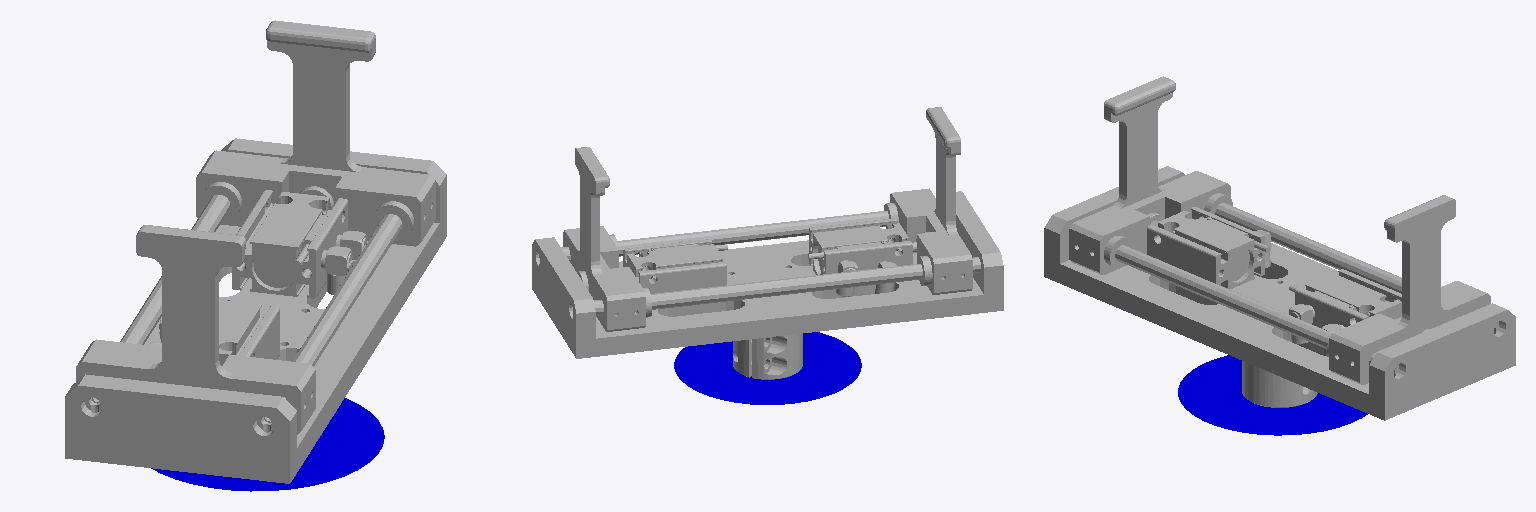
The robot description file, URDF, robot "end_effector_2.SLDASM":
<?xml version="1.0" encoding="utf-8"?>
<!-- This URDF was automatically created by SolidWorks to URDF Exporter! Originally created by [author] ([email redacted]) 
     Commit Version: 1.6.0-4-g7f85cfe  Build Version: 1.6.7995.38578
     For more information, please see http://wiki.ros.org/sw_urdf_exporter -->
<robot
  name="end_effector_2.SLDASM">
  <link
    name="e_i">
    <inertial>
      <origin
        xyz="-2.2788E-07 0.00016942 0.048642"
        rpy="0 0 0" />
      <mass
        value="0.36353" />
      <inertia
        ixx="0.0010771"
        ixy="-0.00079673"
        ixz="8.577E-08"
        iyy="0.0010868"
        iyz="-9.2008E-07"
        izz="0.00197" />
    </inertial>
    <visual>
      <origin
        xyz="0 0 0"
        rpy="0 0 0" />
      <geometry>
        <mesh
          filename="package://end_effector_2.SLDASM/meshes/e_i.STL" />
      </geometry>
      <material
        name="">
        <color
          rgba="0 0 0.93333 1" />
      </material>
    </visual>
    <collision>
      <origin
        xyz="0 0 0"
        rpy="0 0 0" />
      <geometry>
        <mesh
          filename="package://end_effector_2.SLDASM/meshes/e_i.STL" />
      </geometry>
    </collision>
  </link>
  <link
    name="e_b">
    <inertial>
      <origin
        xyz="-2.2728E-07 0.00016942 0.048642"
        rpy="0 0 0" />
      <mass
        value="0.36353" />
      <inertia
        ixx="0.00049959"
        ixy="-0.00031438"
        ixz="4.1101E-08"
        iyy="0.00049979"
        iyz="-1.4951E-07"
        izz="0.00093275" />
    </inertial>
    <visual>
      <origin
        xyz="0 0 0"
        rpy="0 0 0" />
      <geometry>
        <mesh
          filename="package://end_effector_2.SLDASM/meshes/e_b.STL" />
      </geometry>
      <material
        name="">
        <color
          rgba="0.75294 0.75294 0.75294 1" />
      </material>
    </visual>
    <collision>
      <origin
        xyz="0 0 0"
        rpy="0 0 0" />
      <geometry>
        <mesh
          filename="package://end_effector_2.SLDASM/meshes/e_b.STL" />
      </geometry>
    </collision>
  </link>
  <joint
    name="e_f_j"
    type="fixed">
    <origin
      xyz="0 0 0"
      rpy="0 0 0" />
    <parent
      link="e_i" />
    <child
      link="e_b" />
    <axis
      xyz="0 0 0" />
  </joint>
</robot>

--- What the picture shows (computed from the rendered views, not written in the file) ---
3 views of the same robot in one strip: view 1: azimuth 30°, elevation 25°; view 2: azimuth 150°, elevation 25°; view 3: azimuth 270°, elevation 25° (orthographic).
Model end_effector_2.SLDASM with 2 links and 1 joints (1 fixed), rooted at e_i, posed all joints at 0.
Links seen in each view (by area): view 1: e_b, e_i; view 2: e_b, e_i; view 3: e_b, e_i.
Link boxes in pixels (box(x1,y1,x2,y2)): e_b: box(65, 20, 446, 483); e_i: box(151, 398, 384, 491); e_b: box(532, 107, 1003, 379); e_i: box(674, 332, 861, 404); e_b: box(1044, 76, 1515, 420); e_i: box(1178, 355, 1367, 435).
Bounding box of the posed robot: 0.2164 × 0.2164 × 0.123 m (x, y, z).
2 mesh visuals loaded from 2 distinct referenced files (2 binary STL).